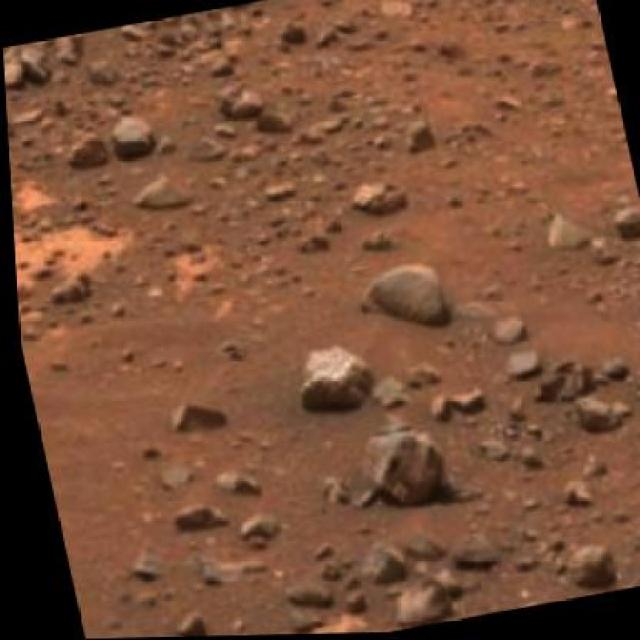rock: (344, 417, 453, 515), (346, 258, 454, 344), (283, 340, 374, 418)
